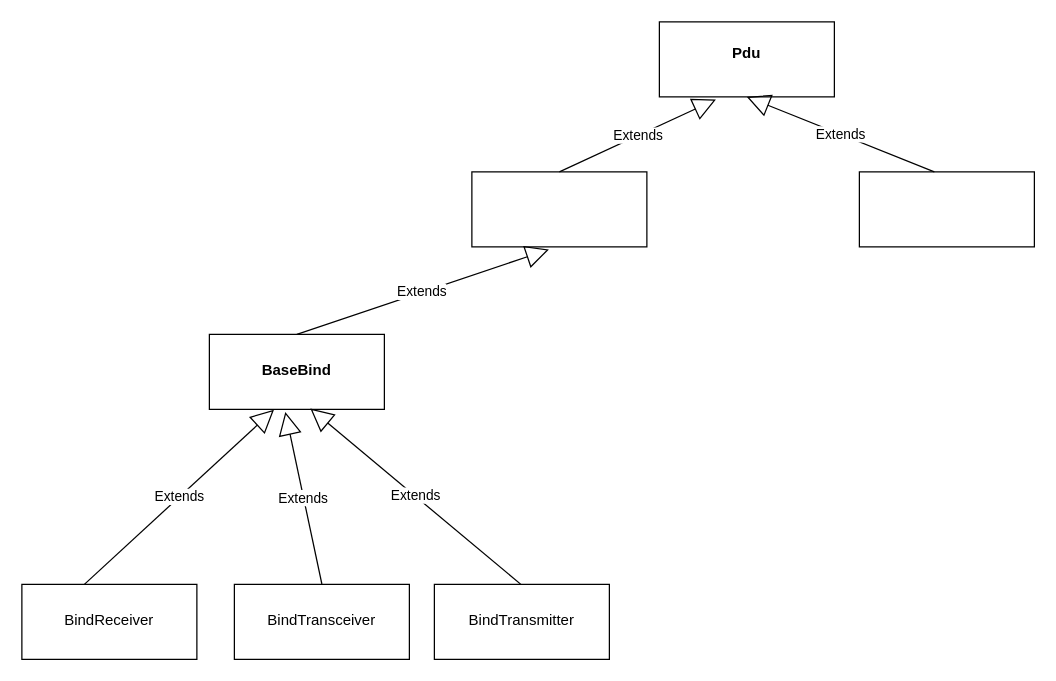
Some shapes in this 1056 by 681 pixel diagram are drawn without their labels. Each missing label, with the box of its shape:
PduRequest: (471, 171, 647, 247)
PduResponse: (858, 171, 1034, 247)
